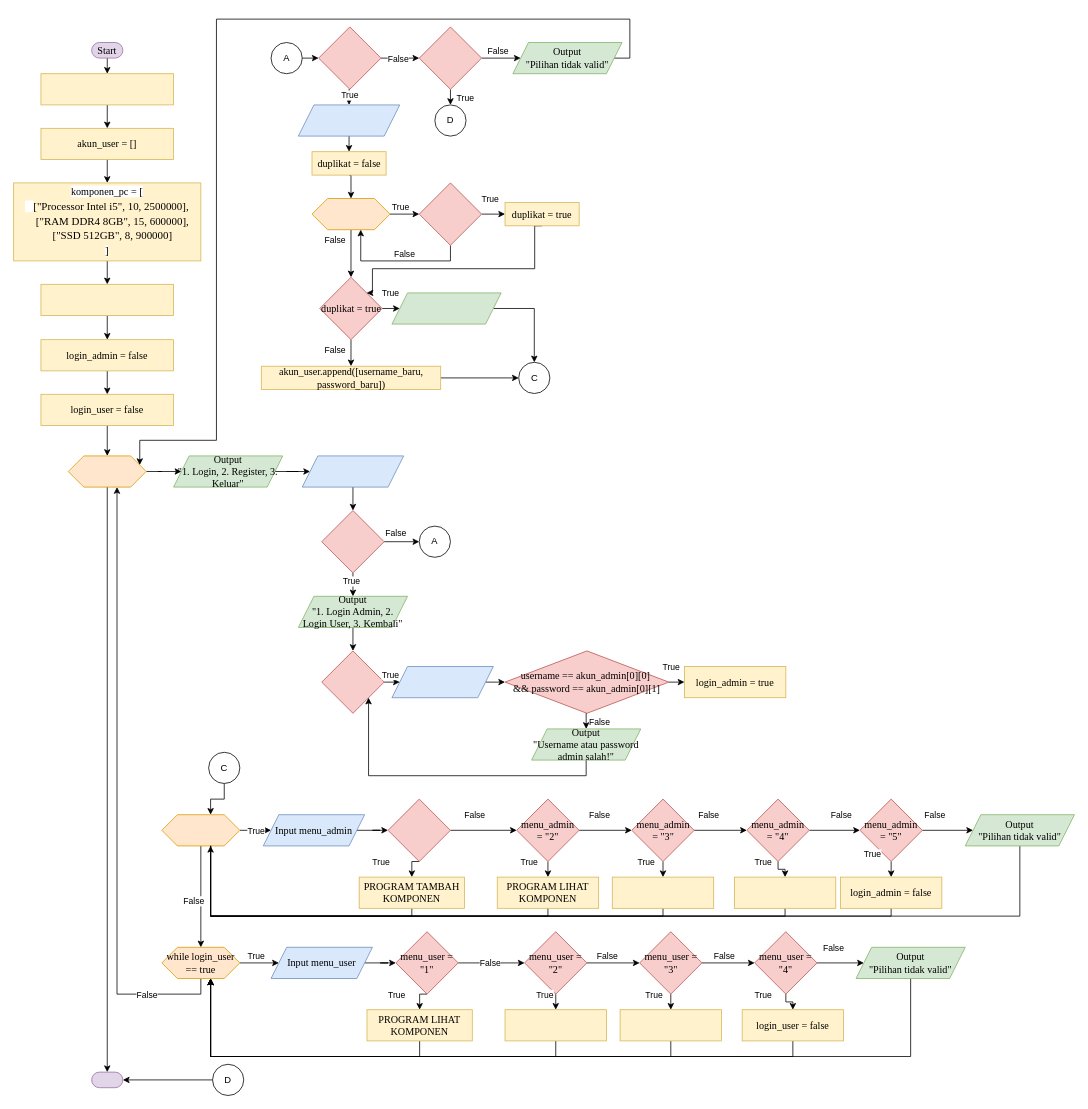
The diagram is 1088 pixels wide and 1109 high, and some of its shapes have lost their labels. The centre of each missing label's shape, as x and y in pixels:
akun_admin = [["admin", "1234"]]: (107,89)
End: (107,1079)
for user in akun_user: (350,214)
Input pilihan: (352,471)
Input username, password: (442,682)
Input username_baru, password_baru: (349,120)
menu_admin = "1": (418,830)
Output "Username sudah digunakan": (446,308)
pilih_login = "1": (352,681)
pilihan = "1": (352,541)
pilihan = "2": (349,57)
pilihan = "3": (450,57)
PROGRAM BELI KOMPONEN: (555,1025)
PROGRAM HAPUS KOMPONEN: (785,892)
PROGRAM LIHAT RIWAYAT TRANSAKSI: (670,1025)
PROGRAM UBAH KOMPONEN: (663,892)
transaksi = []: (107,300)
username_baru == user[0]: (450,213)
while login_admin == true: (200,830)
while True: (106,471)
